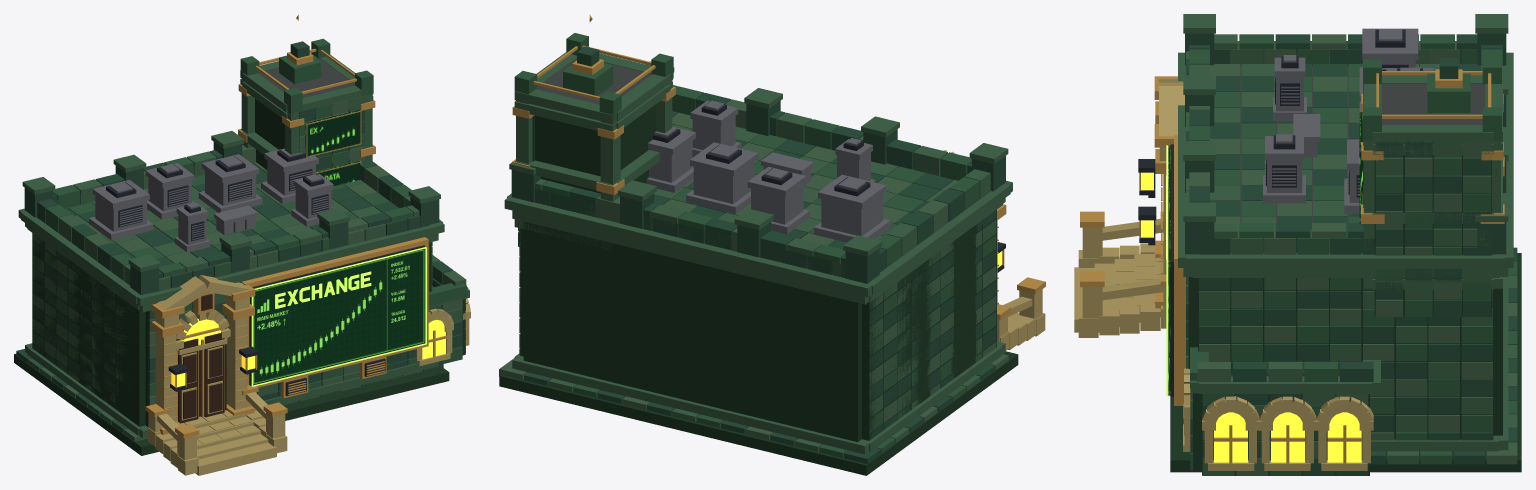
Rendered from exchange_lod1.glb.
3 views of the same model, side by side, from view 1: azimuth 30°, elevation 25°; view 2: azimuth 150°, elevation 25°; view 3: azimuth 270°, elevation 25° (orthographic). The views are drawn at different scales.
Parts seen in each view (by area): view 1: Brushed brass, Market display • PBR + emissive, Tower display (×2), Neon • lime emission, Amber glass; view 2: Brushed brass; view 3: Brushed brass, Amber glass, Market display • PBR + emissive, Neon • lime emission.
Part boxes in pixels (<box>): Brushed brass: <box>14,14,470,475</box>; Market display • PBR + emissive: <box>251,246,425,385</box>; Tower display (×2): <box>305,110,361,185</box>; Neon • lime emission: <box>251,247,426,386</box>; Amber glass: <box>171,318,445,387</box>; Brushed brass: <box>499,14,1045,475</box>; Brushed brass: <box>1074,14,1521,475</box>; Amber glass: <box>1141,172,1361,462</box>; Market display • PBR + emissive: <box>1168,145,1170,395</box>; Neon • lime emission: <box>1166,145,1168,395</box>.
Size of the model in its own units: 9.76 by 8.33 by 8.02.
6 materials, 6 textured.
